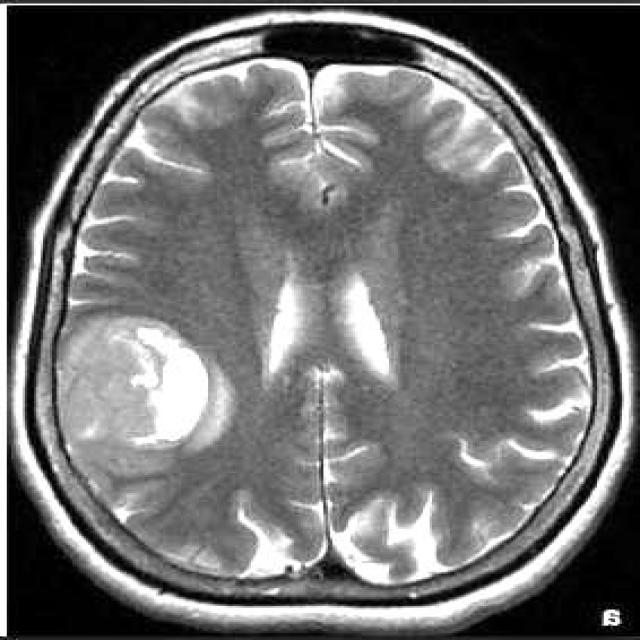Tumor-Cell: (26, 286, 230, 459)
